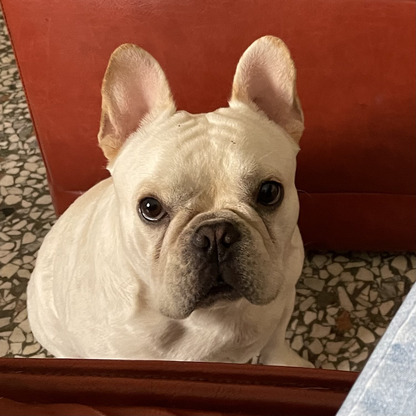bulldog: (26, 34, 316, 368)
